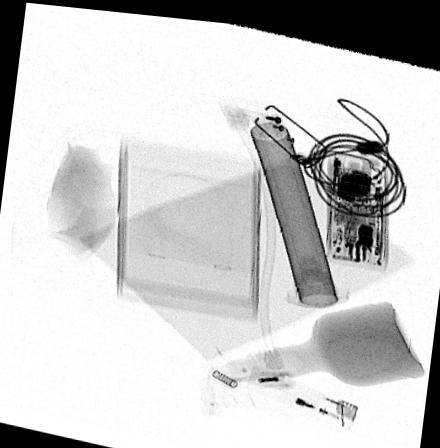Lighter: (244, 359, 358, 423)
